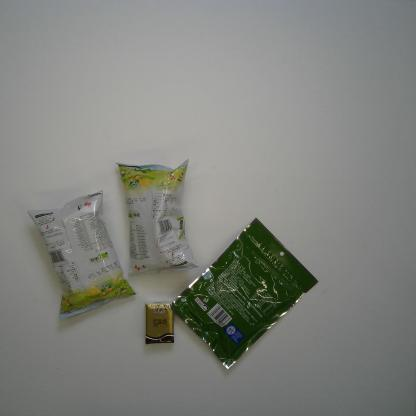Dried Fruit: (170, 216, 320, 371)
Puffed Food: (26, 190, 137, 321), (115, 158, 198, 278)
Tissue: (145, 299, 175, 345)
